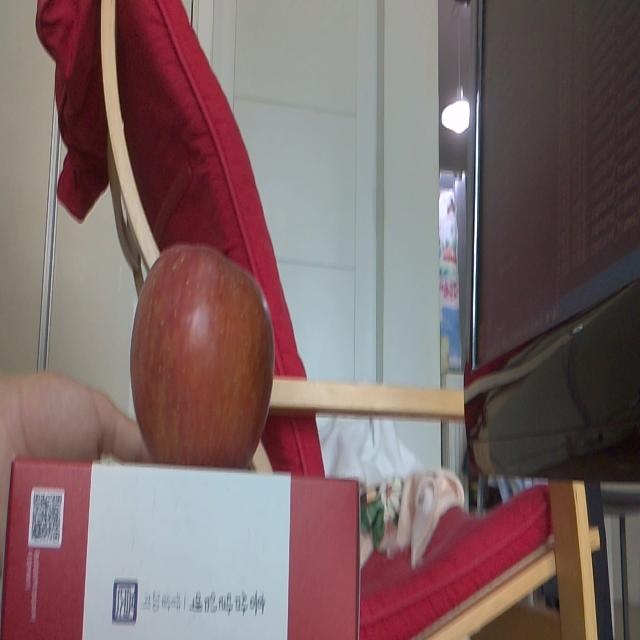apple: (128, 246, 278, 470)
